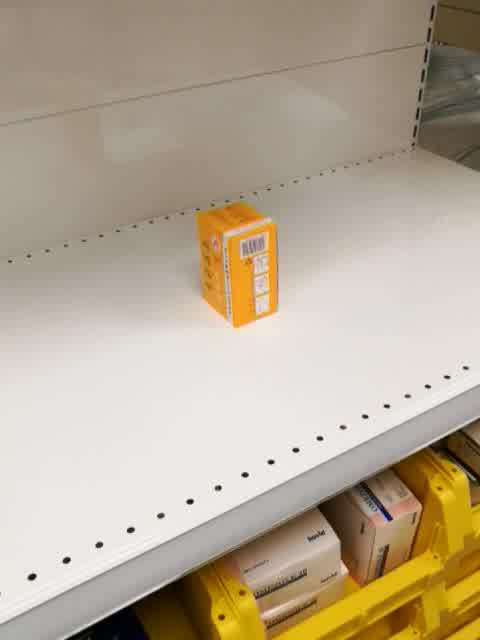jasminetea: (197, 202, 279, 328)
